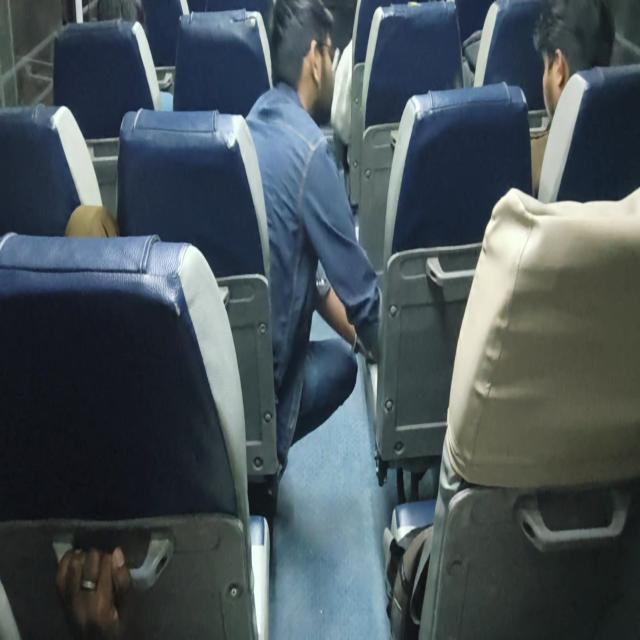person: (531, 5, 599, 100), (277, 2, 329, 122), (102, 0, 150, 47)
